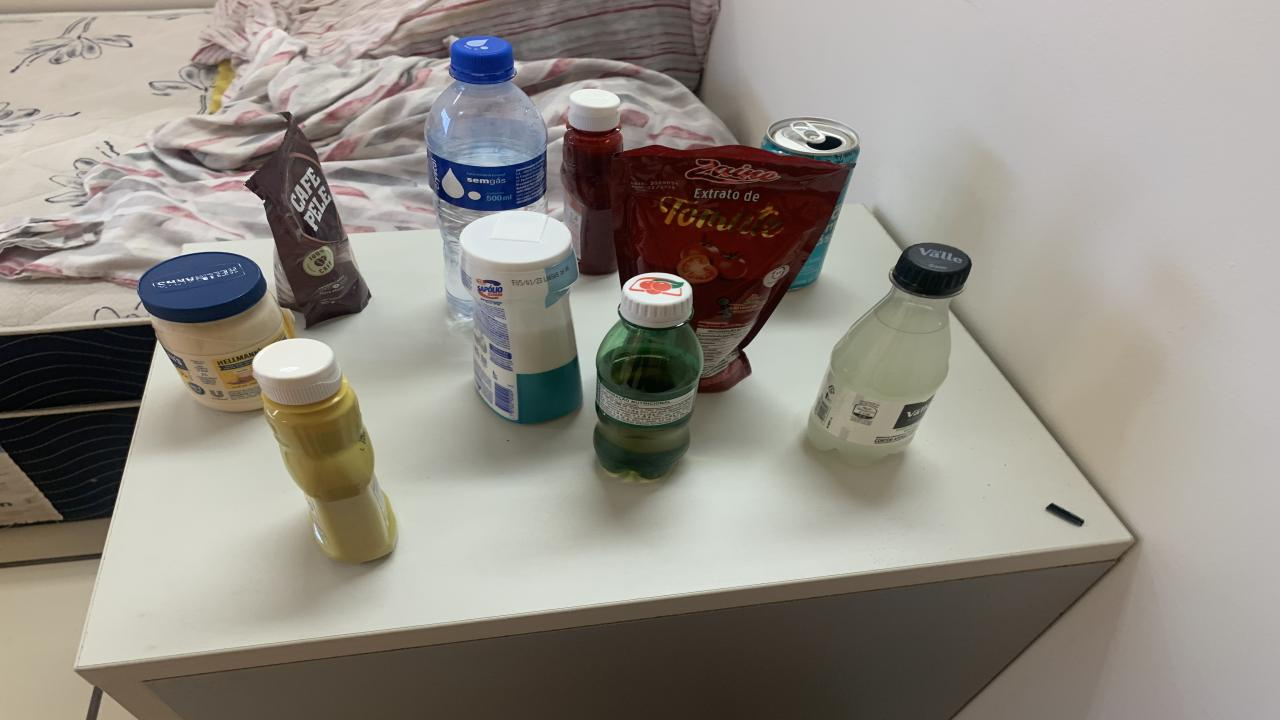Cleaner-Cleanup_Items: (460, 210, 582, 424)
Coffee-Pantry_Items: (248, 112, 370, 326)
Guarana-Drinks: (595, 272, 702, 480)
Ketchup-Pantry_Items: (562, 90, 622, 276)
Mayonnaise-Pantry_Items: (140, 251, 295, 411)
Mustard-Pantry_Items: (252, 339, 398, 562)
Soda-Drinks: (808, 244, 970, 465)
Tomato_Sauce-Pantry_Items: (610, 146, 850, 392)
Tonic-Drinks: (790, 182, 848, 289), (762, 116, 860, 165)
Water_Bottle-Drinks: (425, 36, 548, 321)
